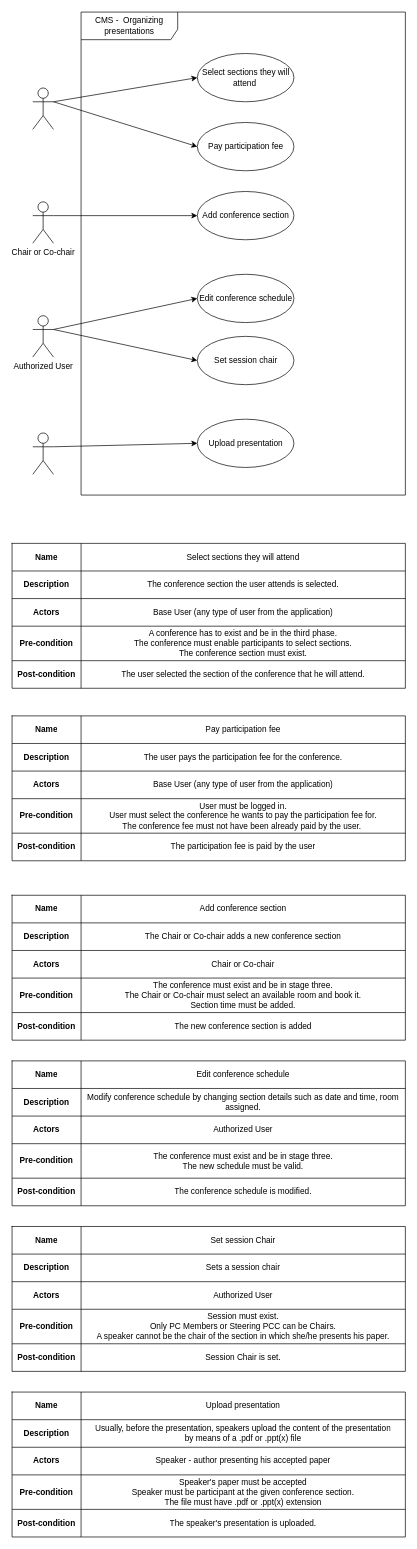
The diagram is 417 pixels wide and 1549 high, and some of its shapes have lost their labels. Each missing label, with the centre of its shape:
"Base User" goes at (x=42, y=108).
"Speaker" goes at (x=42, y=453).
